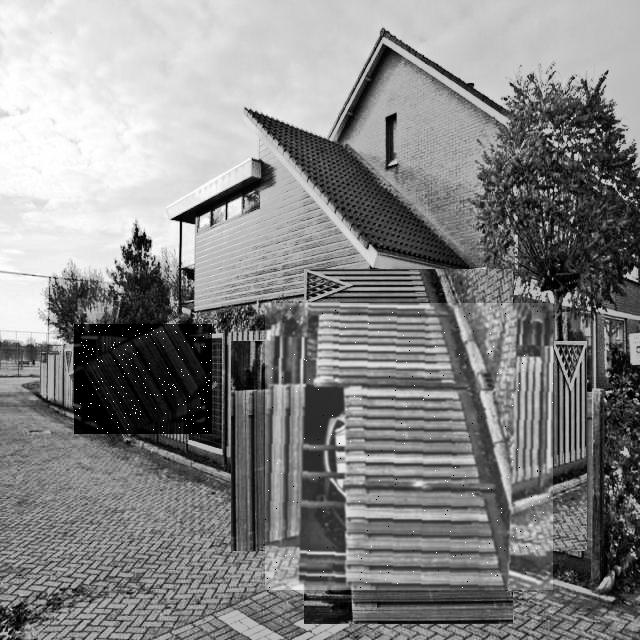fences: (265, 303, 553, 590), (74, 324, 212, 434)
